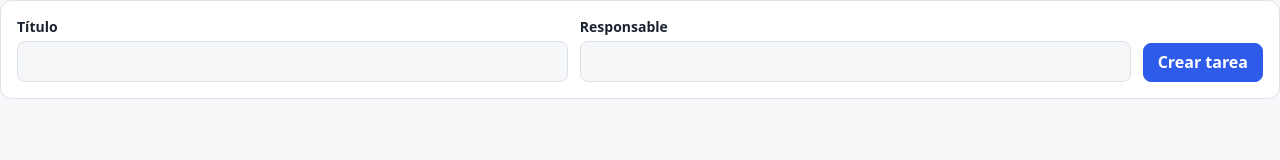
Scenario: TaskForm › vacío: muestra un error por campo, pone el foco en el primero y NO llama a la API
Click the button "Crear tarea" at (1203, 63), box [1143,43,1263,82]
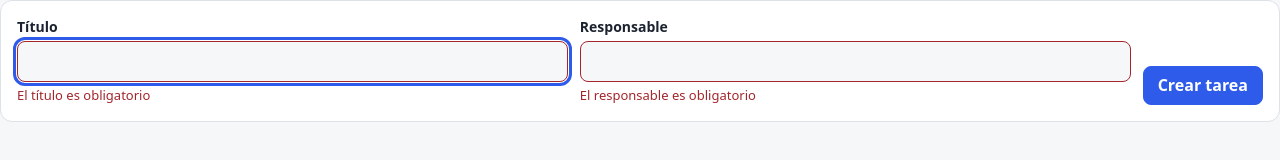
expect the text "El título es obligatorio" is shown: met, box [17,86,150,104]
expect the text "El responsable es obligatorio" is shown: met, box [580,86,756,104]
